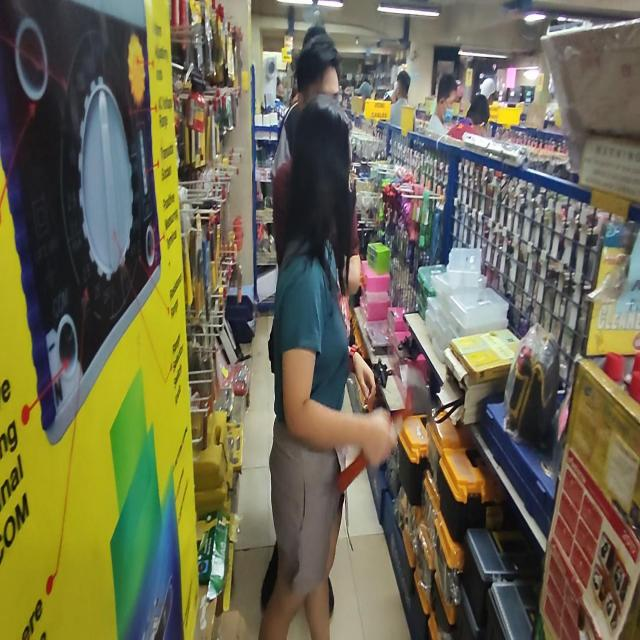hammer: (337, 364, 433, 492)
